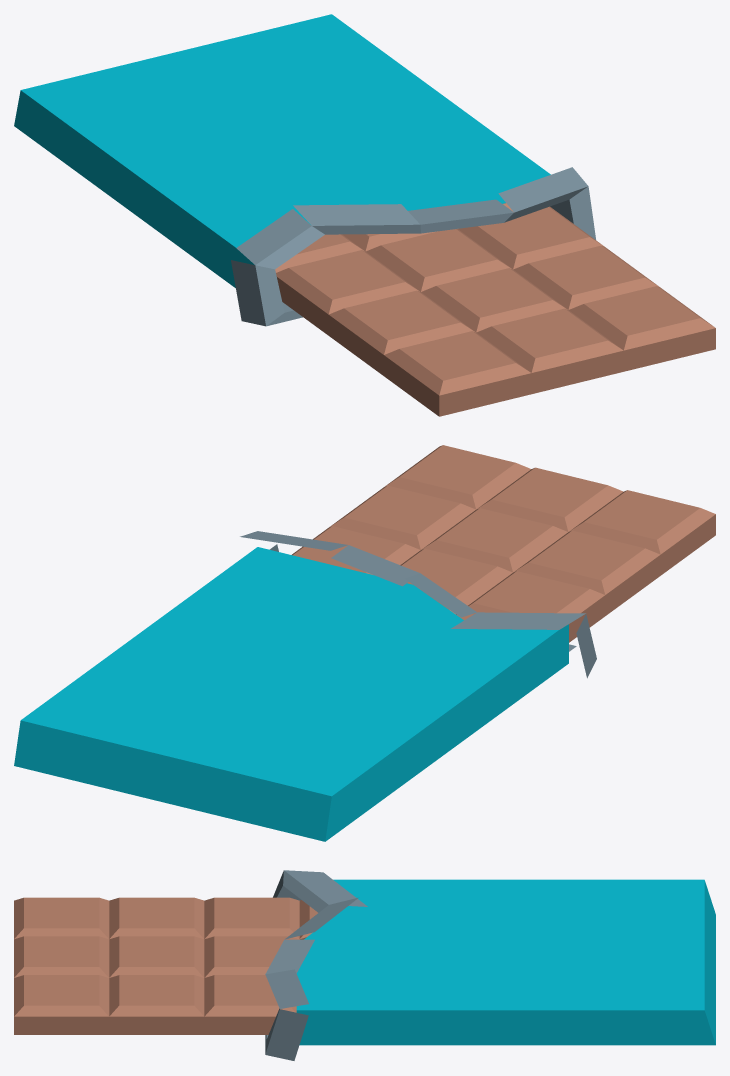
File: chocolate.glb
The picture shows the model from 3 angles, top to bottom: view 1: azimuth 30°, elevation 25°; view 2: azimuth 150°, elevation 25°; view 3: azimuth 270°, elevation 25°; orthographic projection. The views are drawn at different scales.
Parts seen in each view (by area): view 1: Cube.024_Cube.025; view 2: Cube.024_Cube.025; view 3: Cube.024_Cube.025.
Part boxes in pixels (box(x1,y1,x2,y2)): Cube.024_Cube.025: box(14, 14, 715, 416); Cube.024_Cube.025: box(14, 445, 715, 841); Cube.024_Cube.025: box(14, 870, 715, 1060).
Bounding box in the file's own units: 0.2233 × 0.043 × 0.4551.
